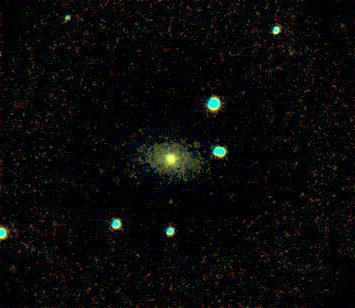star: (50, 5, 80, 35)
